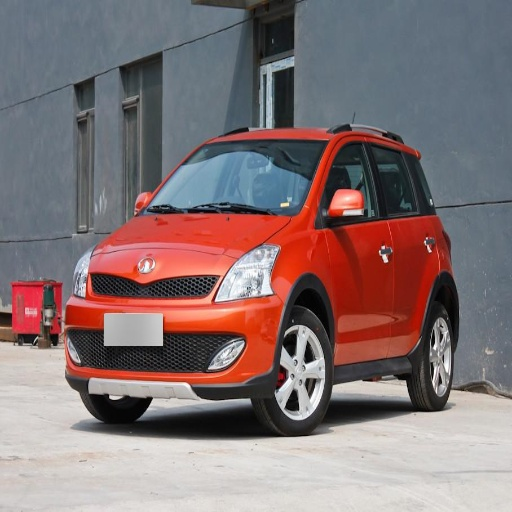front_bumper: (65, 250, 287, 402)
front_glass: (143, 143, 326, 215)
front_left_door: (319, 136, 393, 360)
